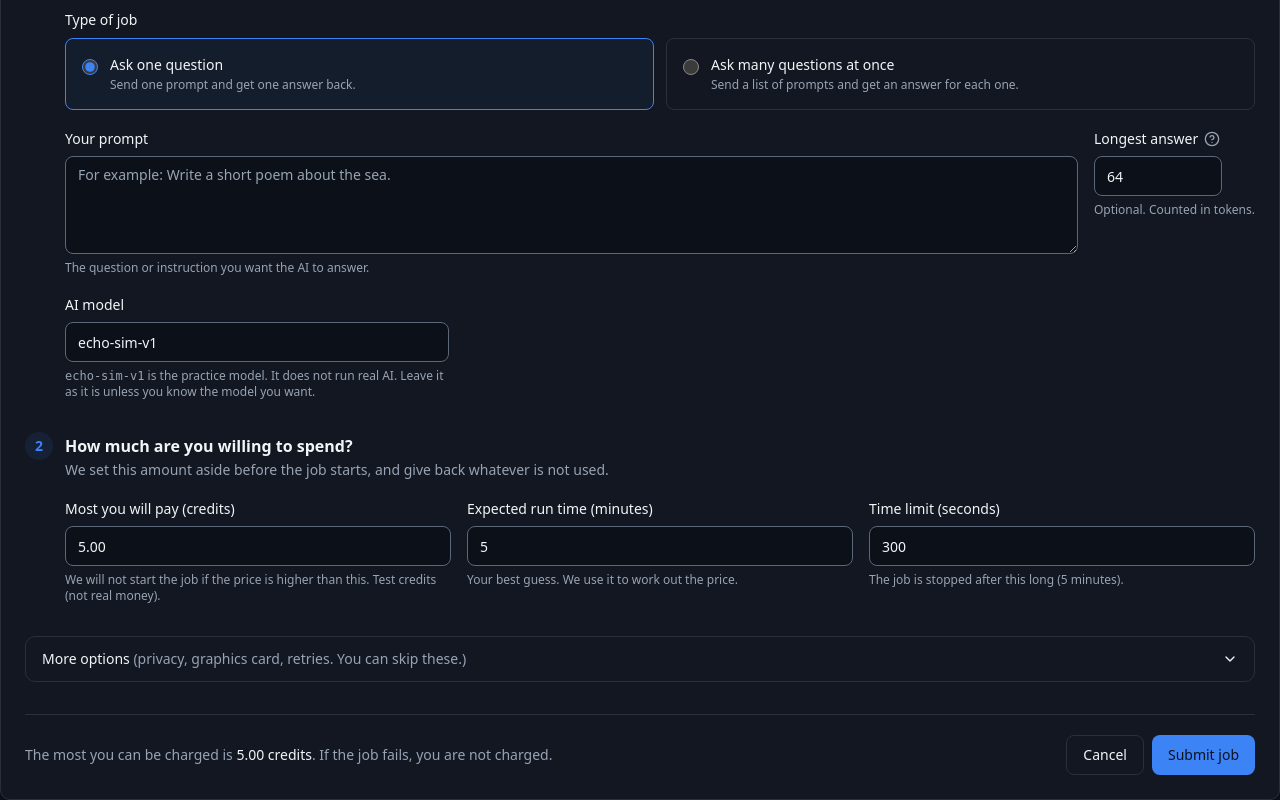
Start a new job page › tells the person the most they can be charged, and keeps it in step with the box
The image size is (1280, 800).
(page scrolled)
Expected: the text "The most you can be charged is" shows "5.00 credits", [236, 745, 312, 764]
Replace the text in the field with id "max_cost" with "12.50": (258, 546) [65, 526, 451, 566]
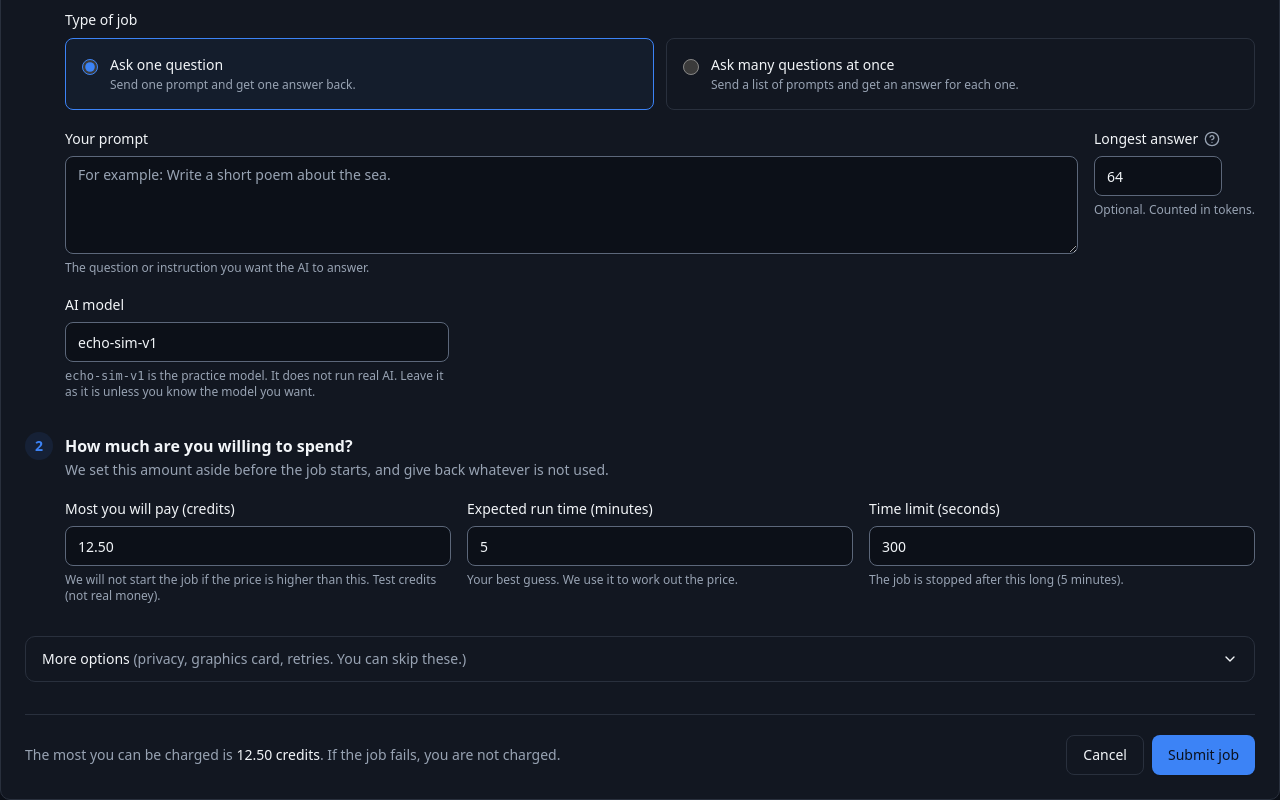
Expected: the text "The most you can be charged is" shows "12.50 credits", [236, 745, 320, 764]
Replace the text in the field with id "max_cost" with "abc": (258, 546) [65, 526, 451, 566]
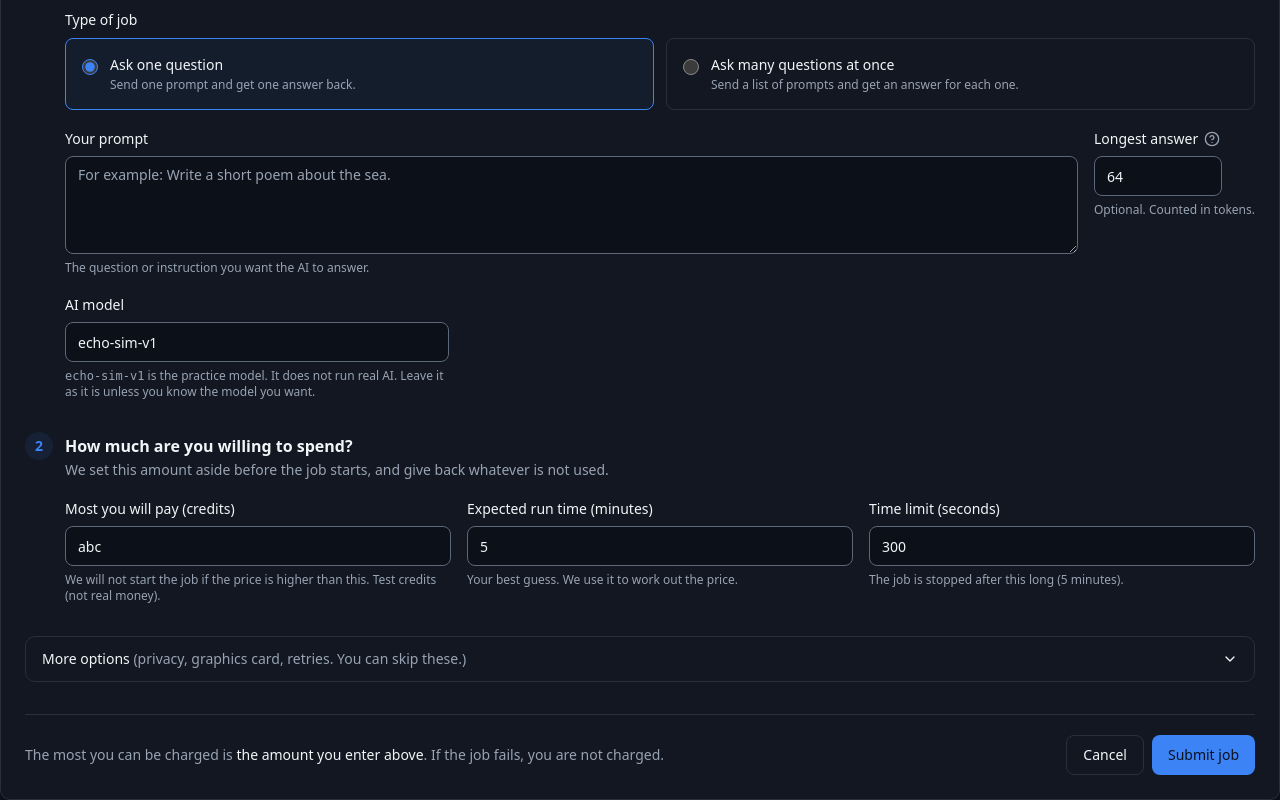
Expected: the text "The most you can be charged is" shows "the amount you enter above", [236, 745, 424, 764]
